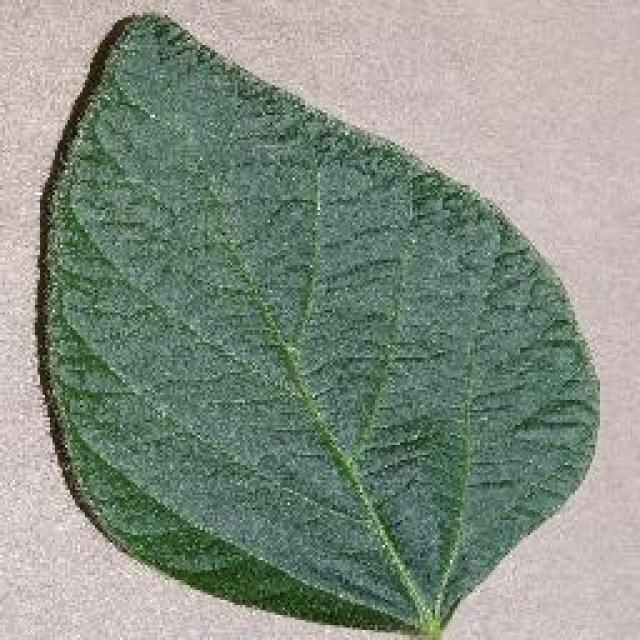Soy_healthy: (77, 31, 546, 570)
